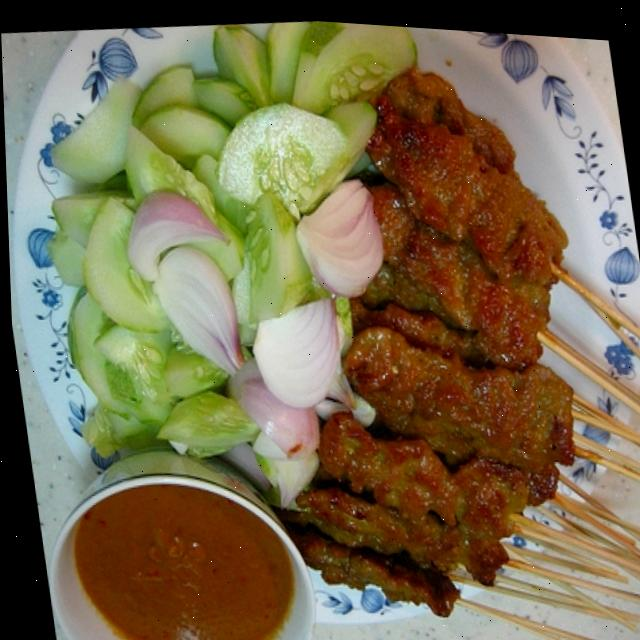牛肉菜式: (7, 0, 640, 640)
